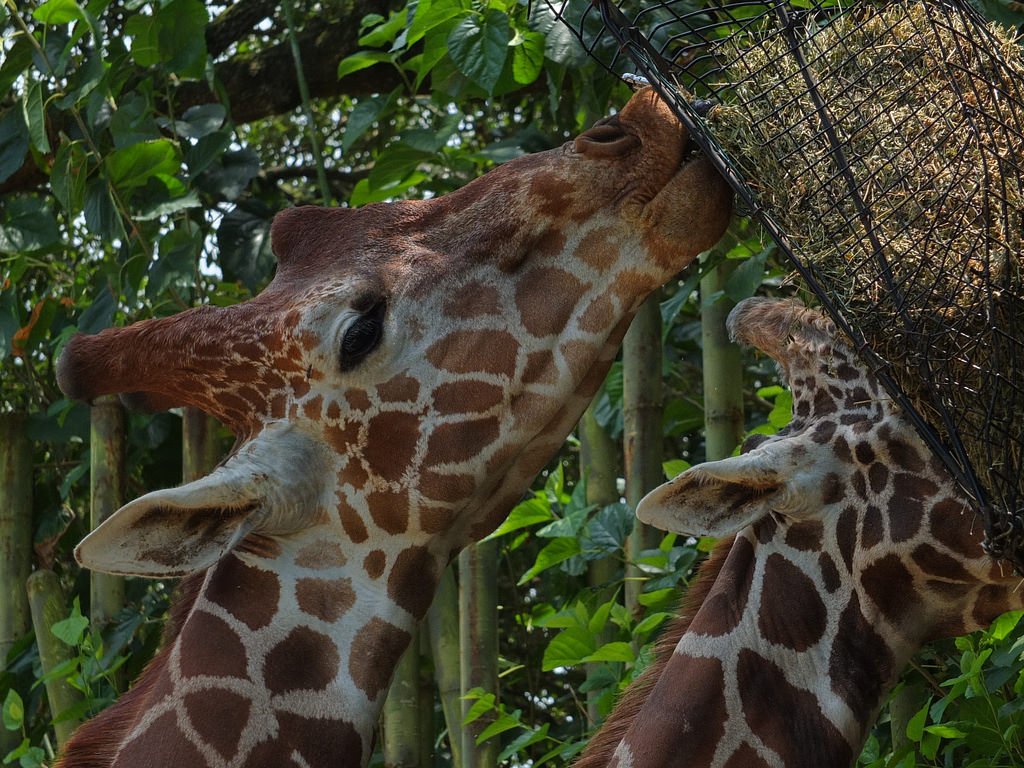giraffe: (49, 76, 781, 734), (635, 272, 997, 735)
